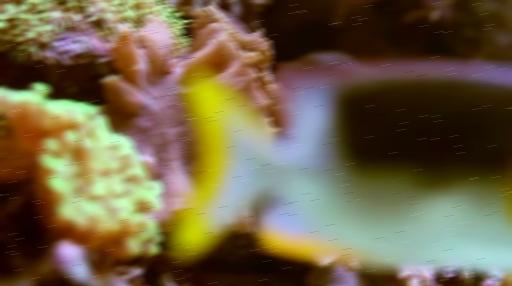Fish: (168, 61, 511, 269)
